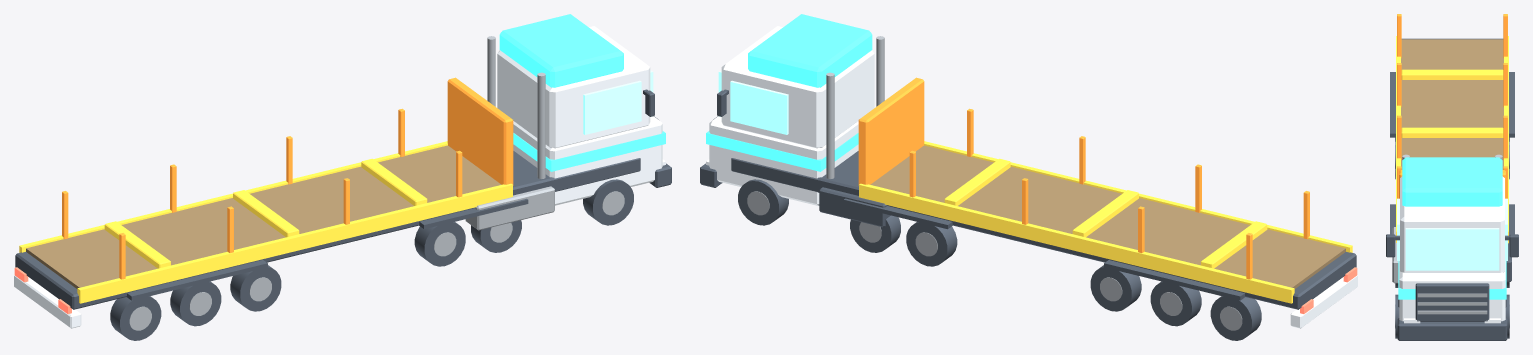
File: road-truck-v4-low.glb
The picture shows the model from 3 angles, left to right: view 1: azimuth 30°, elevation 25°; view 2: azimuth 150°, elevation 25°; view 3: azimuth 270°, elevation 25°; orthographic projection. The views are drawn at different scales.
Parts seen in each view (by area): view 1: road-truck-v4-high.glb-v5_timber_dunnage, road-truck-v4-high.glb-v5_heavy_gunmetal, road-truck-v4-high.glb-v5_cab_white, road-truck-v4-high.glb-v5_crane_yellow, road-truck-v4-high.glb-v5_tech_cyan, road-truck-v4-high.glb-v5_crane_orange, road-truck-v4-high.glb-v5_bright_steel, road-truck-v4-high.glb-v5_cabin_glass; view 2: road-truck-v4-high.glb-v5_timber_dunnage, road-truck-v4-high.glb-v5_heavy_gunmetal, road-truck-v4-high.glb-v5_cab_white, road-truck-v4-high.glb-v5_crane_yellow, road-truck-v4-high.glb-v5_tech_cyan, road-truck-v4-high.glb-v5_crane_orange, road-truck-v4-high.glb-v5_bright_steel, road-truck-v4-high.glb-v5_cabin_glass; view 3: road-truck-v4-high.glb-v5_timber_dunnage, road-truck-v4-high.glb-v5_heavy_gunmetal, road-truck-v4-high.glb-v5_tech_cyan, road-truck-v4-high.glb-v5_cab_white, road-truck-v4-high.glb-v5_cabin_glass, road-truck-v4-high.glb-v5_crane_yellow, road-truck-v4-high.glb-v5_crane_orange, road-truck-v4-high.glb-v5_bright_steel.
Boxes of the visible parts, x1=… form: road-truck-v4-high.glb-v5_timber_dunnage: x1=26, y1=145, x2=501, y2=288; road-truck-v4-high.glb-v5_heavy_gunmetal: x1=15, y1=89, x2=671, y2=340; road-truck-v4-high.glb-v5_cab_white: x1=14, y1=26, x2=665, y2=328; road-truck-v4-high.glb-v5_crane_yellow: x1=19, y1=141, x2=512, y2=303; road-truck-v4-high.glb-v5_tech_cyan: x1=499, y1=14, x2=665, y2=171; road-truck-v4-high.glb-v5_crane_orange: x1=62, y1=77, x2=513, y2=279; road-truck-v4-high.glb-v5_bright_steel: x1=129, y1=36, x2=624, y2=330; road-truck-v4-high.glb-v5_cabin_glass: x1=583, y1=70, x2=653, y2=134; road-truck-v4-high.glb-v5_timber_dunnage: x1=870, y1=145, x2=1345, y2=288; road-truck-v4-high.glb-v5_heavy_gunmetal: x1=700, y1=89, x2=1356, y2=340; road-truck-v4-high.glb-v5_cab_white: x1=706, y1=26, x2=1357, y2=328; road-truck-v4-high.glb-v5_crane_yellow: x1=859, y1=141, x2=1352, y2=303; road-truck-v4-high.glb-v5_tech_cyan: x1=706, y1=14, x2=872, y2=171; road-truck-v4-high.glb-v5_crane_orange: x1=858, y1=77, x2=1309, y2=279; road-truck-v4-high.glb-v5_bright_steel: x1=747, y1=36, x2=1242, y2=330; road-truck-v4-high.glb-v5_cabin_glass: x1=718, y1=70, x2=788, y2=134; road-truck-v4-high.glb-v5_timber_dunnage: x1=1401, y1=39, x2=1503, y2=169; road-truck-v4-high.glb-v5_heavy_gunmetal: x1=1386, y1=38, x2=1518, y2=340; road-truck-v4-high.glb-v5_tech_cyan: x1=1398, y1=157, x2=1506, y2=299; road-truck-v4-high.glb-v5_cab_white: x1=1399, y1=176, x2=1505, y2=323; road-truck-v4-high.glb-v5_cabin_glass: x1=1397, y1=198, x2=1507, y2=270; road-truck-v4-high.glb-v5_crane_yellow: x1=1396, y1=36, x2=1508, y2=243; road-truck-v4-high.glb-v5_crane_orange: x1=1397, y1=14, x2=1507, y2=198; road-truck-v4-high.glb-v5_bright_steel: x1=1392, y1=138, x2=1509, y2=328.
Size of the model in its own units: 15.02 by 3.98 by 3.1.
